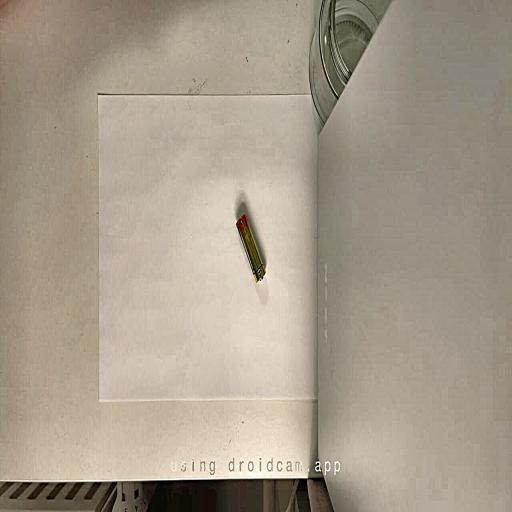PanasonicAA: (236, 214, 265, 282)
